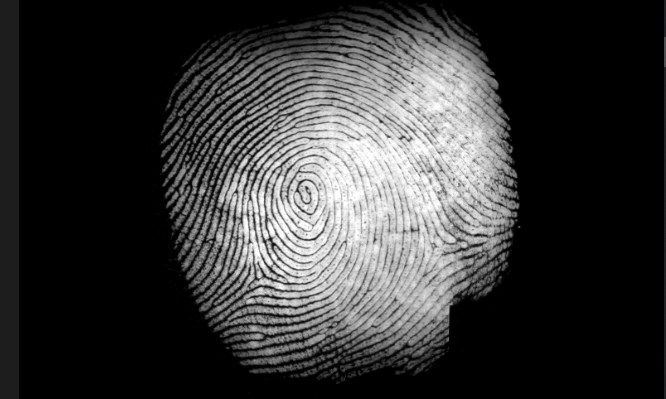nucelo: (294, 184, 318, 213)
verticilo: (424, 236, 449, 256), (244, 270, 264, 287)
